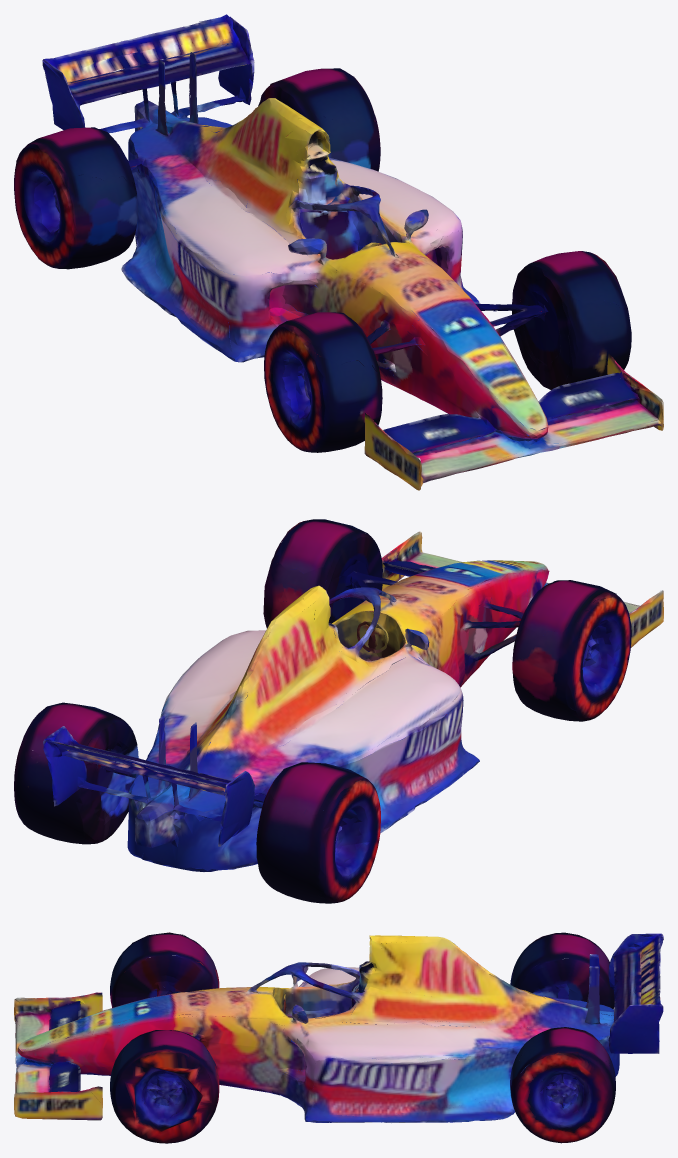
Rendered from indycar1.glb.
3 views of the same model, one above another, from view 1: azimuth 30°, elevation 25°; view 2: azimuth 150°, elevation 25°; view 3: azimuth 270°, elevation 25° (orthographic). The views are drawn at different scales.
Parts seen in each view (by area): view 1: body, wheel_front_L, wheel_rear_L, wheel_front_R, wheel_rear_R; view 2: body, wheel_front_L, wheel_rear_L, wheel_rear_R, wheel_front_R; view 3: body, wheel_rear_R, wheel_front_R, wheel_front_L, wheel_rear_L.
Part boxes in pixels (x1,y1,x2,y2): body: [16, 14, 658, 482]; wheel_front_L: [205, 272, 480, 490]; wheel_rear_L: [14, 129, 213, 347]; wheel_front_R: [426, 231, 663, 440]; wheel_rear_R: [258, 84, 478, 301]; body: [25, 519, 639, 871]; wheel_front_L: [445, 583, 663, 781]; wheel_rear_L: [256, 776, 460, 903]; wheel_rear_R: [14, 695, 247, 844]; wheel_front_R: [247, 531, 428, 692]; body: [14, 932, 663, 1142]; wheel_rear_R: [305, 1041, 615, 1143]; wheel_front_R: [14, 1044, 346, 1143]; wheel_front_L: [14, 946, 299, 1042]; wheel_rear_L: [365, 947, 614, 1026].
Size of the model in its own units: 1.77 by 1.03 by 4.
Materials: 1 (1 with a texture image).
